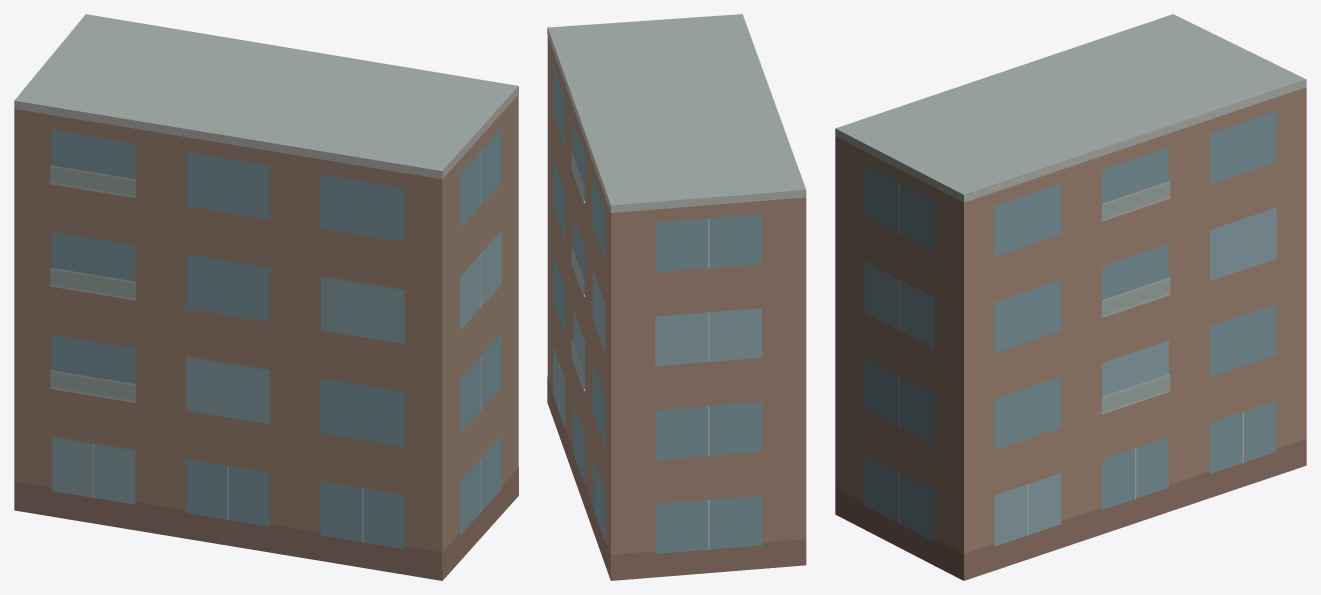
Rendered from survey-upis-32640076.glb.
The picture shows the model from 3 angles, left to right: view 1: azimuth 30°, elevation 25°; view 2: azimuth 150°, elevation 25°; view 3: azimuth 270°, elevation 25°; orthographic projection. The views are drawn at different scales.
Visible parts, largest first — view 1: survey-upis-32640076.tmp; view 2: survey-upis-32640076.tmp; view 3: survey-upis-32640076.tmp.
Part boxes in pixels (x1,y1,x2,y2): survey-upis-32640076.tmp: (14, 14, 518, 580); survey-upis-32640076.tmp: (547, 14, 806, 580); survey-upis-32640076.tmp: (835, 14, 1306, 580).
Size of the model in its own units: 12.27 by 12.2 by 13.51.
